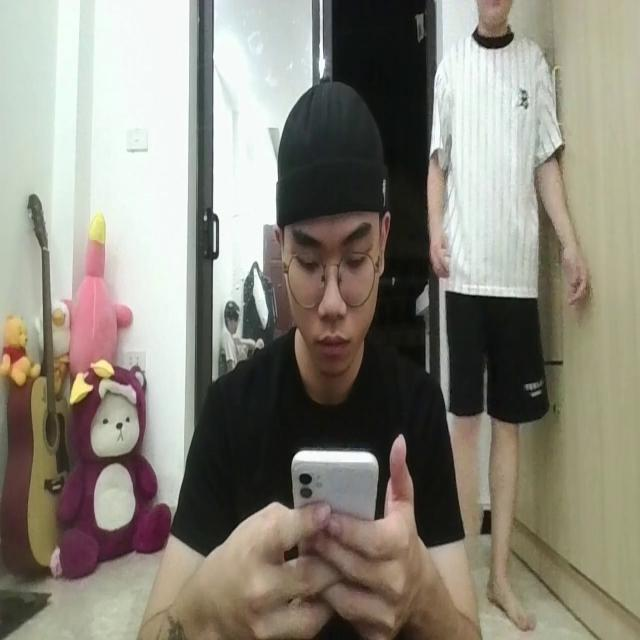extra_person: (425, 0, 586, 522)
phone: (291, 434, 379, 606)
student: (137, 77, 475, 640)
